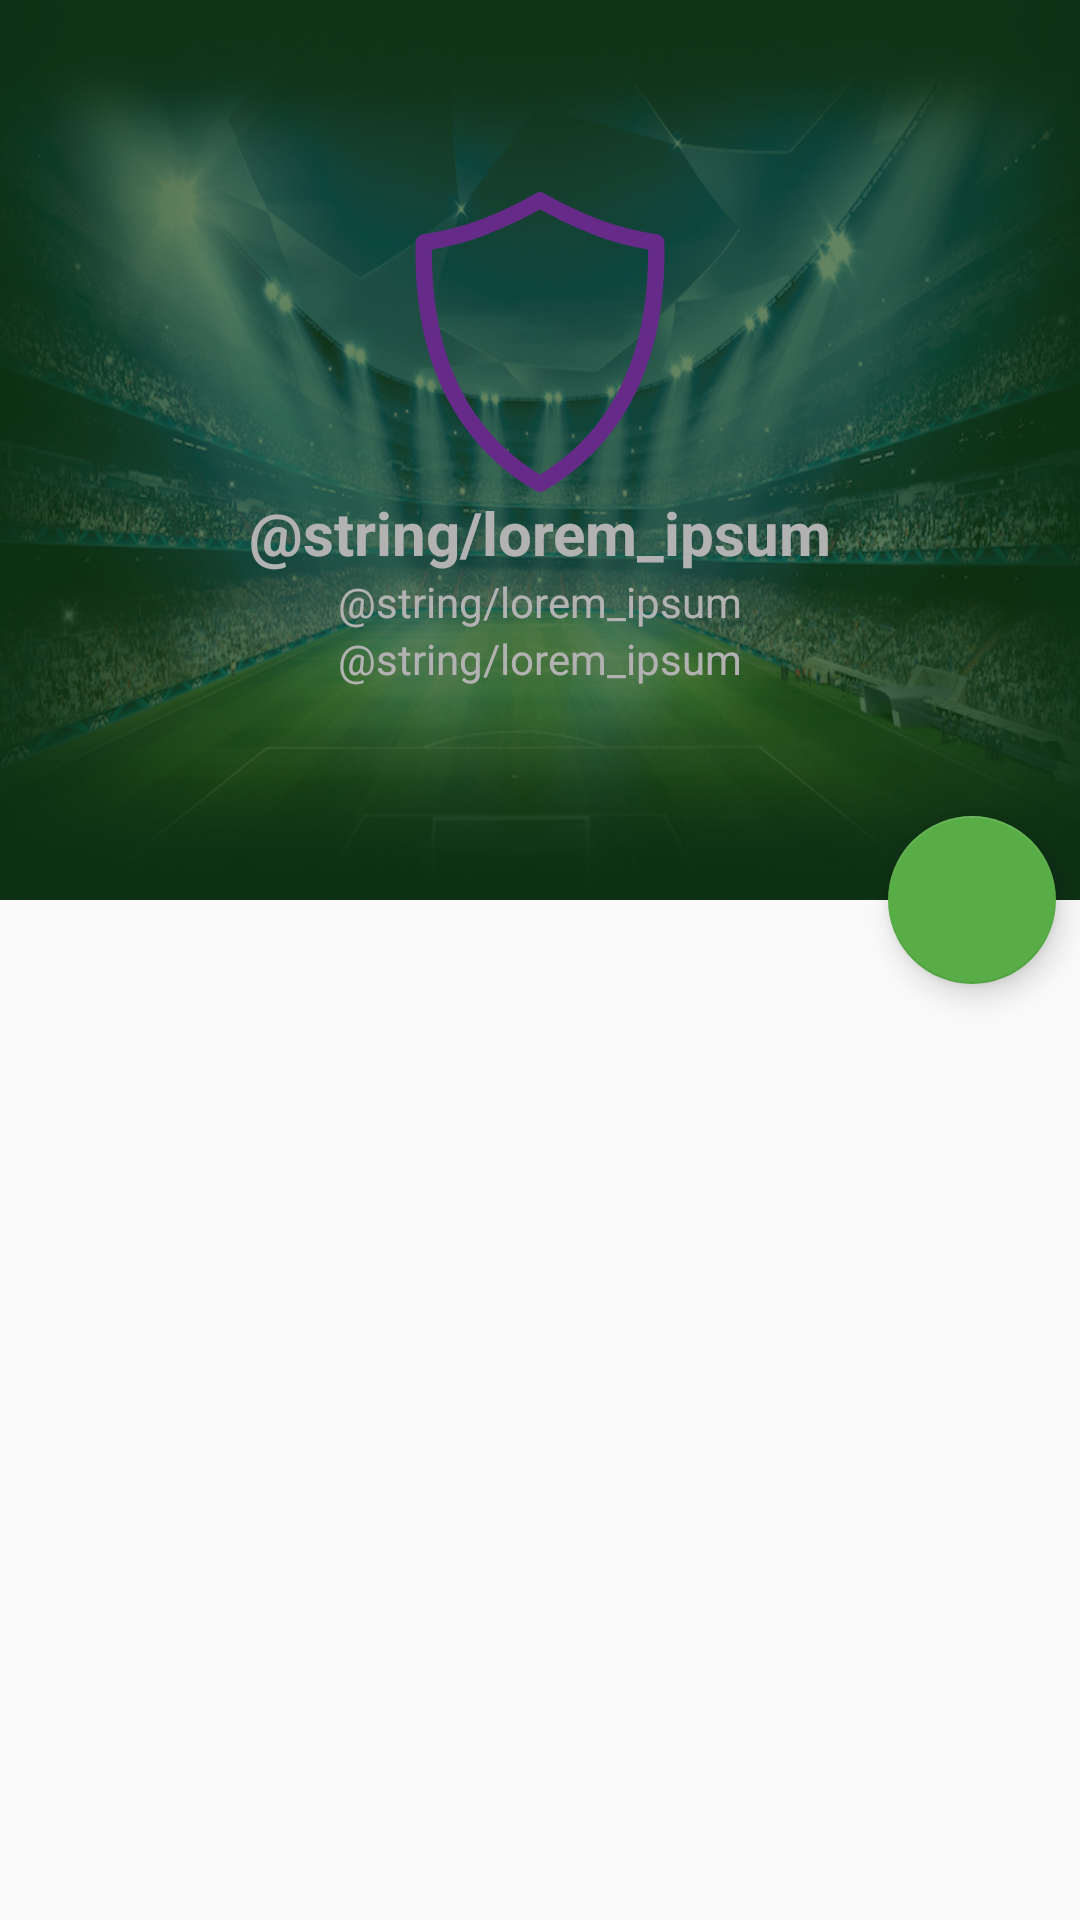

Point at icon controls on the screen. Image size 1080 × 1920, points as point (x, y).
empty badge: point (540, 342)
